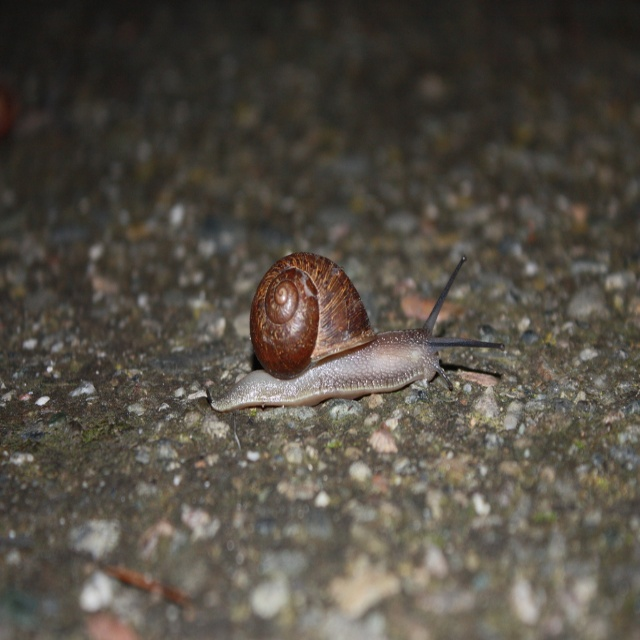Snail: (206, 235, 502, 425)
